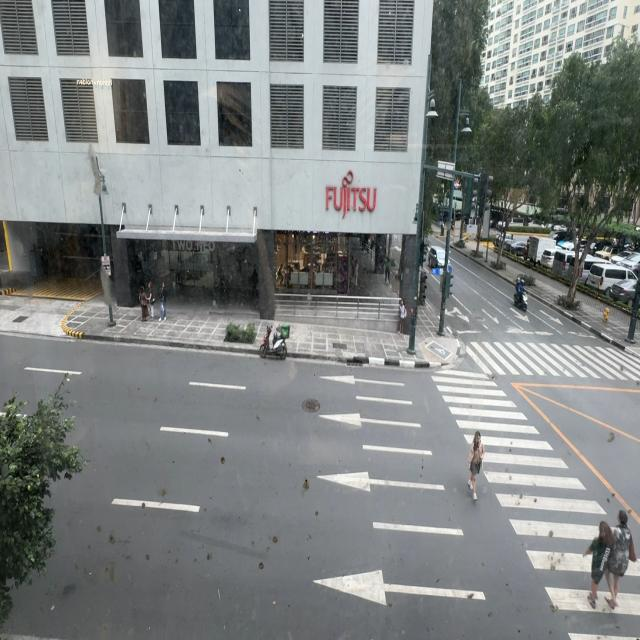crossing: (578, 508, 610, 615), (611, 497, 634, 618)
jaywalking: (467, 430, 482, 500)
pedestrain: (397, 298, 405, 335)
